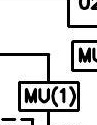MU: (17, 80, 81, 112)
